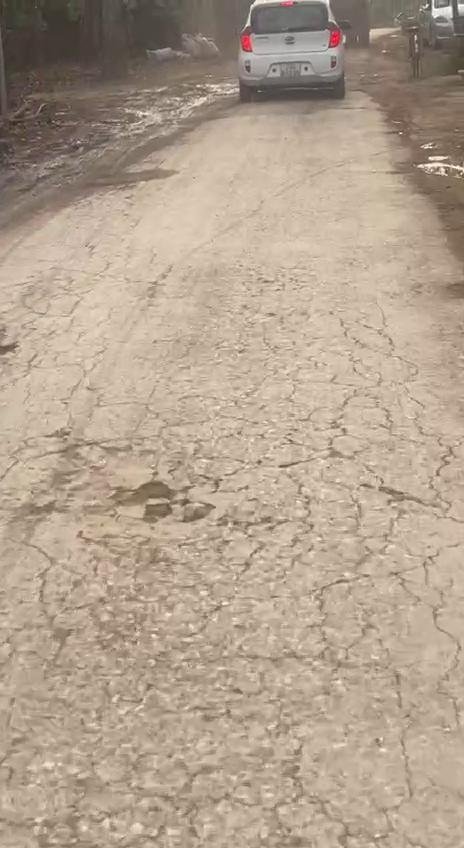pothole: (110, 476, 209, 526)
